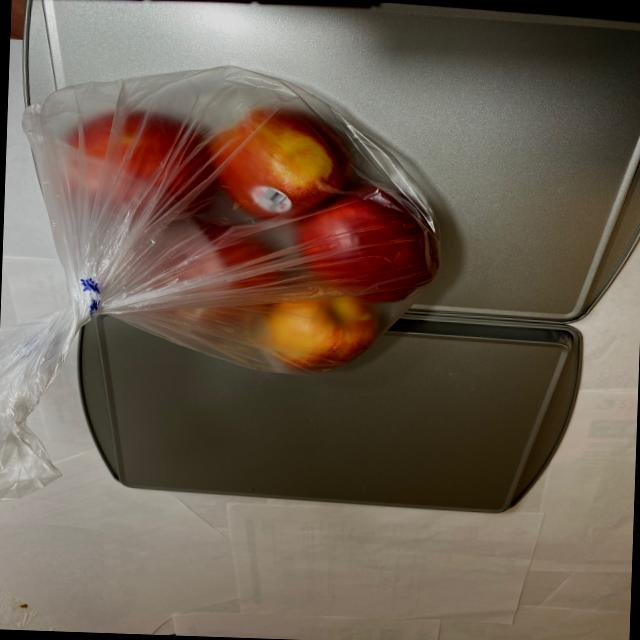apple: (46, 94, 448, 378)
